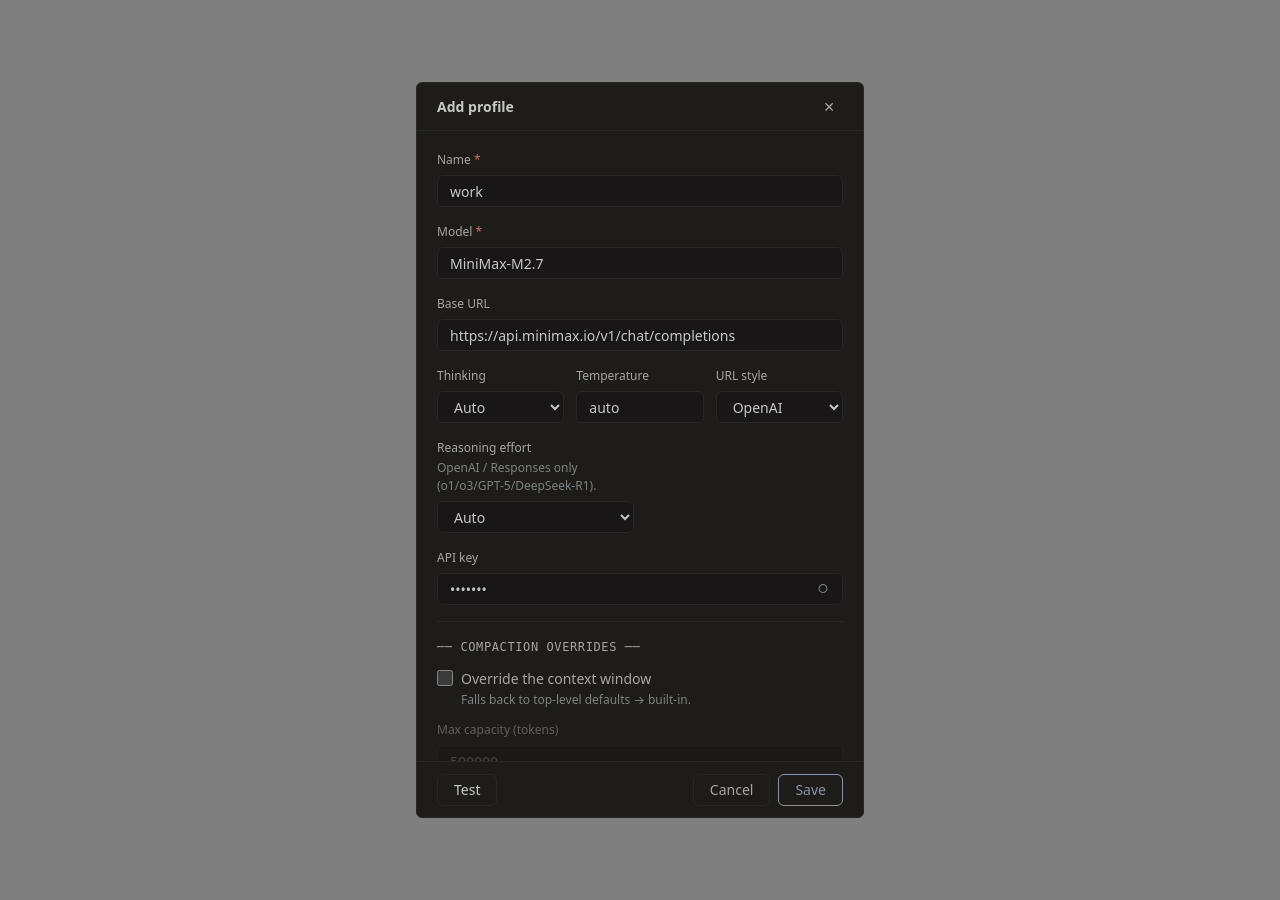
Scenario: LlmConfigModal — Test LLM button › surfaces unexpected exceptions as an inline failure (no throw)
The width and height of the screenshot is (1280, 900).
Click the button with test id "llm-test-btn".
click(467, 790)  # box [437,774,498,806]
(page scrolled)
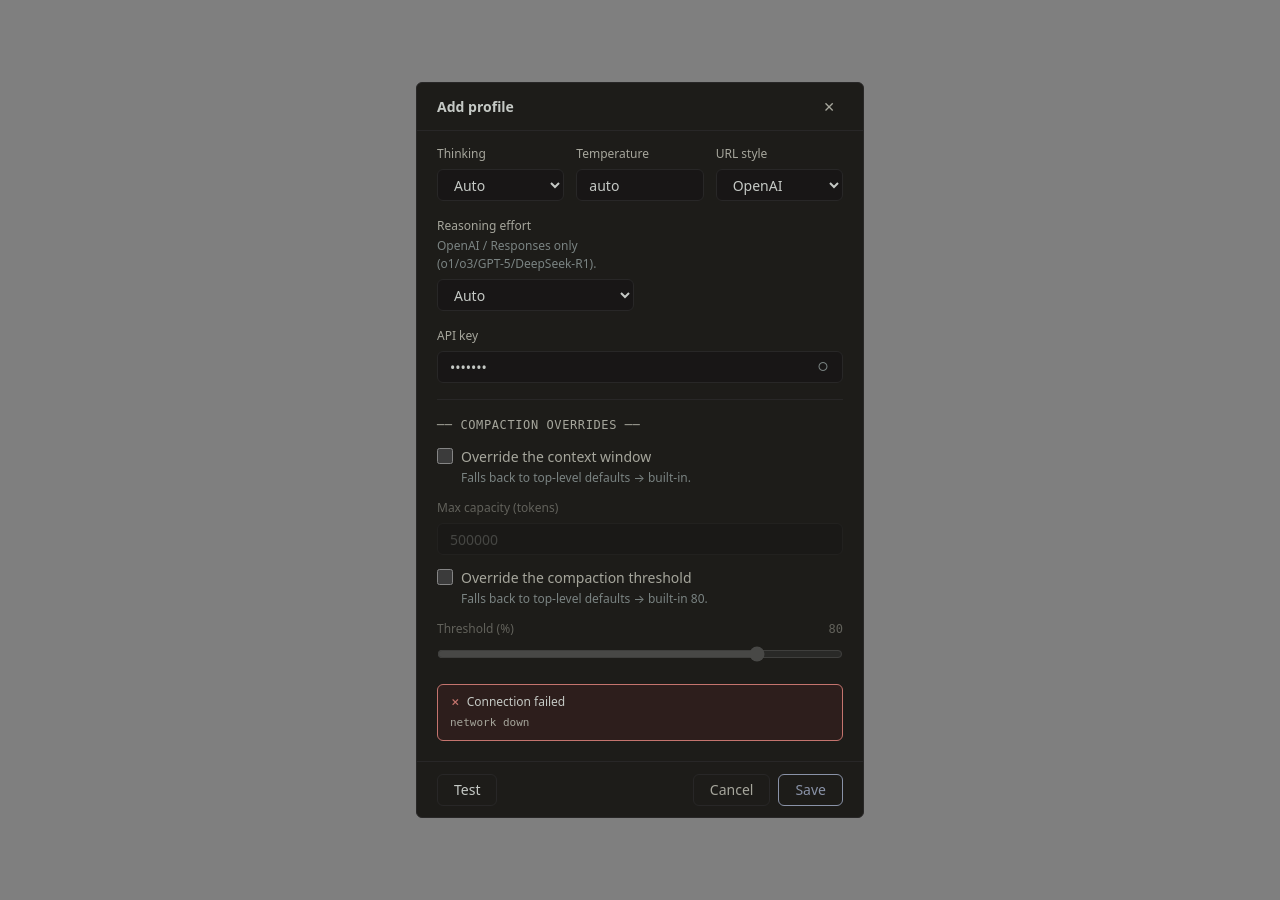
Check: the text with test id "llm-test-error" reads "network down", box [450,716,530,729]
